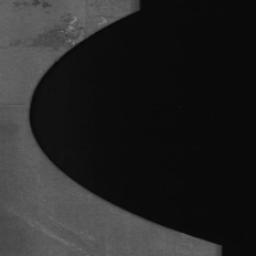Crescent gap: (29, 10, 220, 246)
